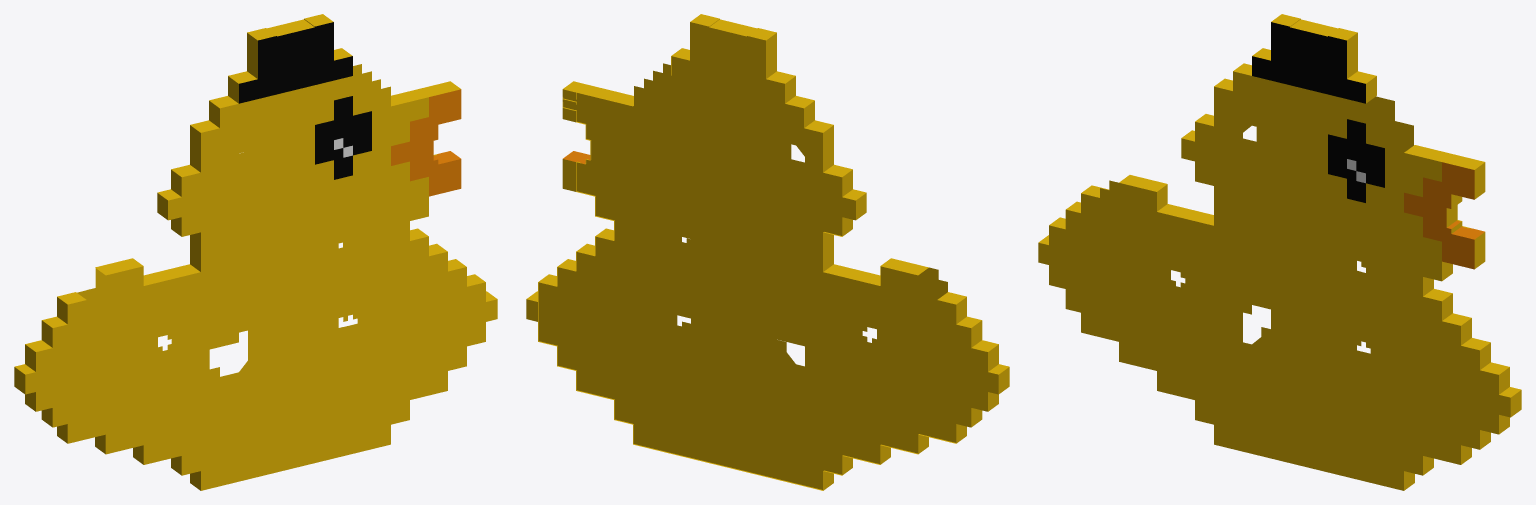
File: DUCKY_1_Destroyed.fbx
3 renders of one model, left to right at view 1: azimuth 30°, elevation 25°; view 2: azimuth 150°, elevation 25°; view 3: azimuth 330°, elevation 25°, orthographic.
Parts seen in each view (by area): view 1: DUCKK; view 2: DUCKK; view 3: DUCKK.
Boxes of the visible parts, <box> form: DUCKK: <box>14,14,497,490</box>; DUCKK: <box>526,14,1009,490</box>; DUCKK: <box>1038,14,1521,490</box>.
Bounding box in the file's own units: 141 × 124 × 5.65.
